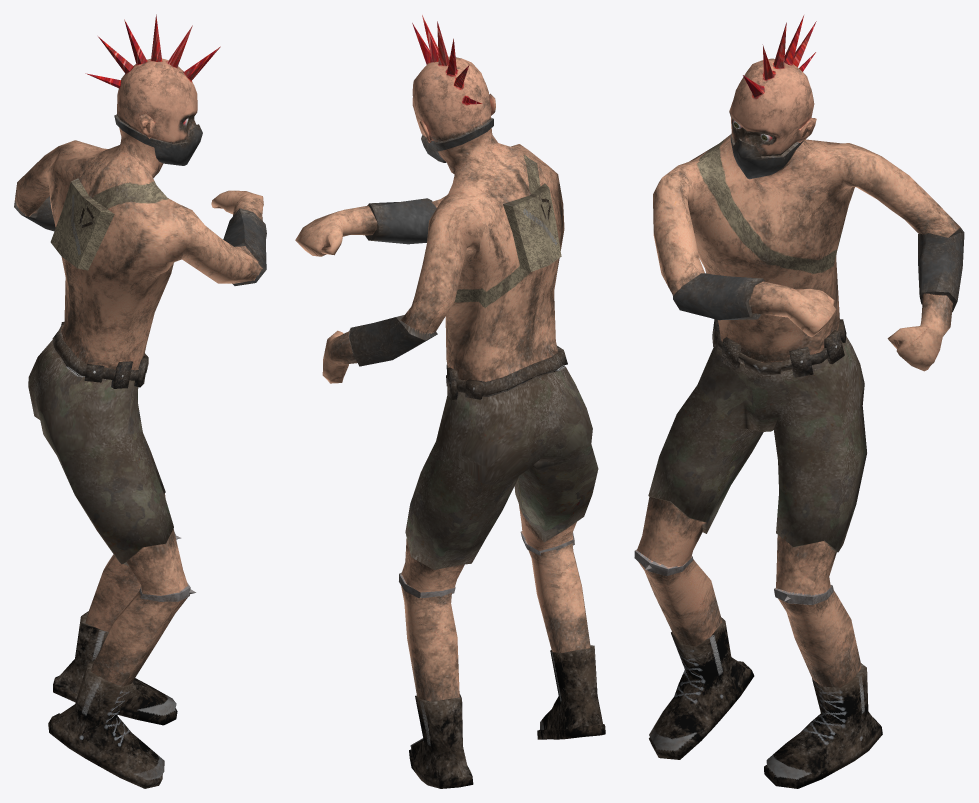
File: Anim_arma_cc_npc2.0009.obj
3 renders of one model, left to right at view 1: azimuth 30°, elevation 25°; view 2: azimuth 150°, elevation 25°; view 3: azimuth 270°, elevation 25°, orthographic. The views are drawn at different scales.
Parts seen in each view (by area): view 1: polySurface1; view 2: polySurface1; view 3: polySurface1.
Part boxes in pixels (bbox=[...]): polySurface1: bbox=[14, 14, 266, 788]; polySurface1: bbox=[295, 15, 605, 788]; polySurface1: bbox=[634, 15, 964, 788].
Size of the model in its own units: 3.7 by 9.93 by 3.88.
